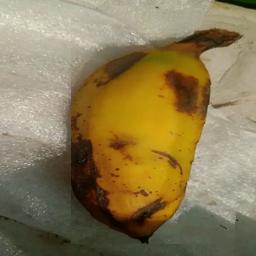Banana Semirotten: (72, 11, 247, 245)
